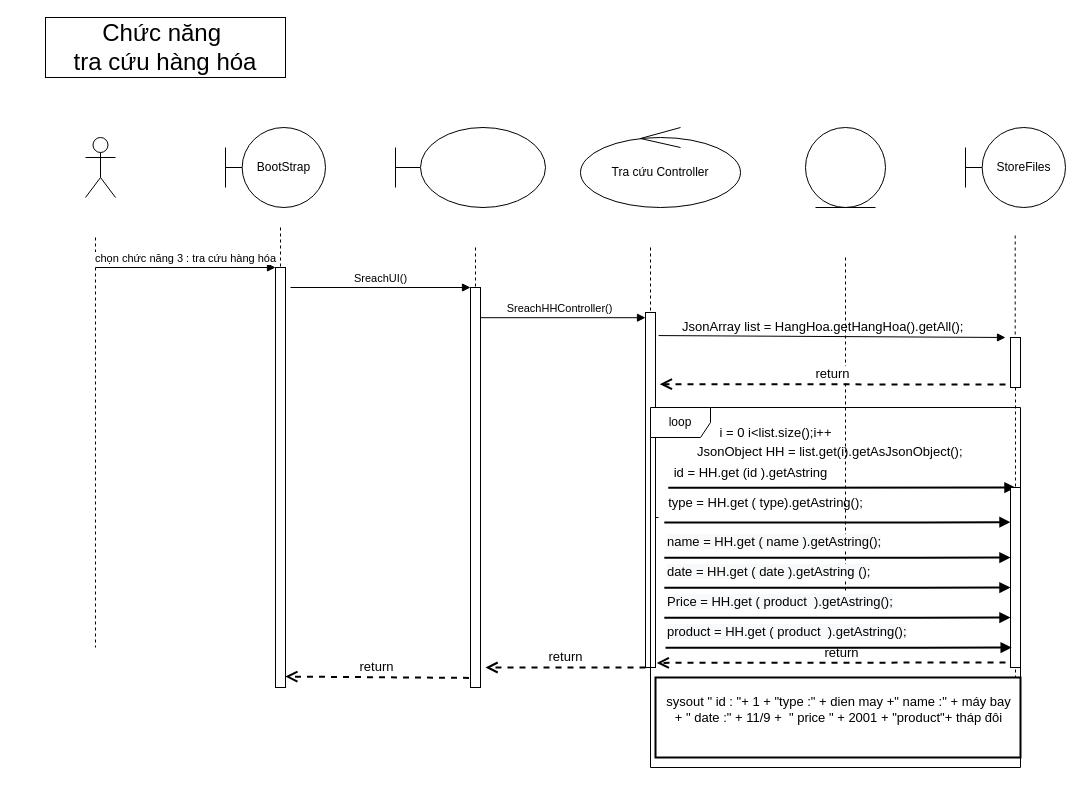
Some shapes in this 1083 by 785 pixel diagram are drawn without their labels. The shapes that lost their labels are listed below. From the top down, each one's centre as x and y in pixels, then its label:
At point (100, 167): "User ( nhân viên , khách hàng )".
At point (470, 167): "Tra cứu UI".
At point (845, 167): "Hang Hoa".
